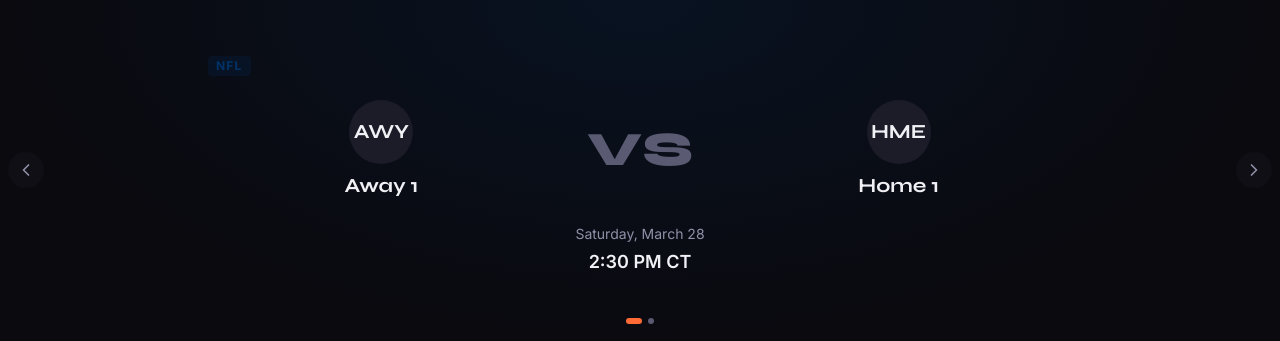
Scenario: HeroBanner › navigates to previous event on prev arrow click
The image size is (1280, 341).
Click the button named "Next event". click: x=1254, y=170
box: [1236, 152, 1272, 188]
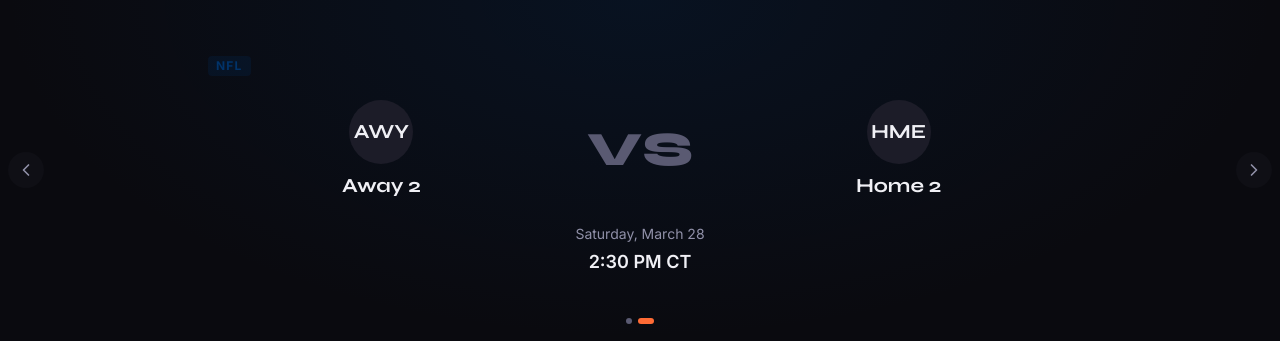
Now the text "Home 2" is shown, box [856, 173, 941, 198]
Click the button named "Previous event". click: x=26, y=170
box: [8, 152, 44, 188]
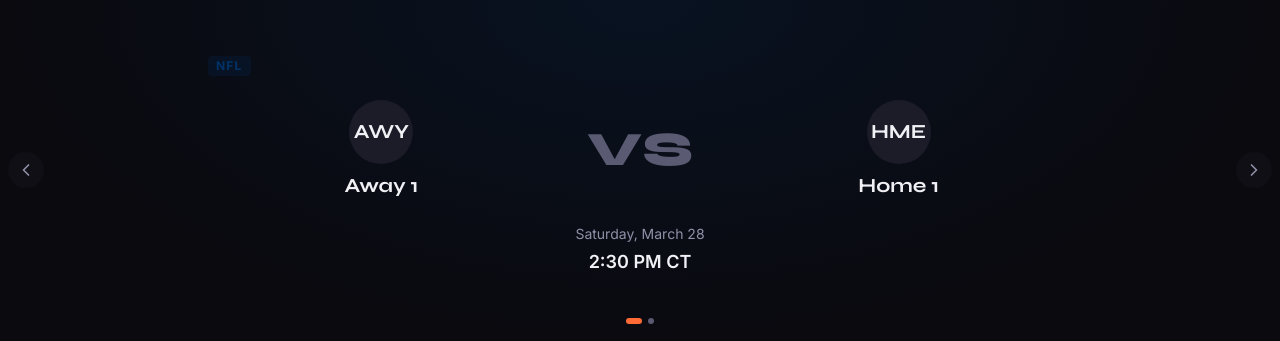
Now the text "Home 1" is shown, box [858, 173, 939, 198]
